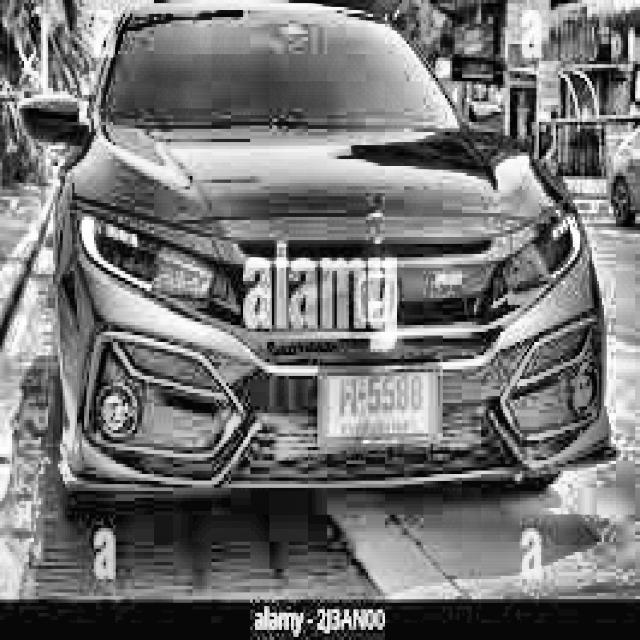license-plate: (312, 358, 445, 449)
